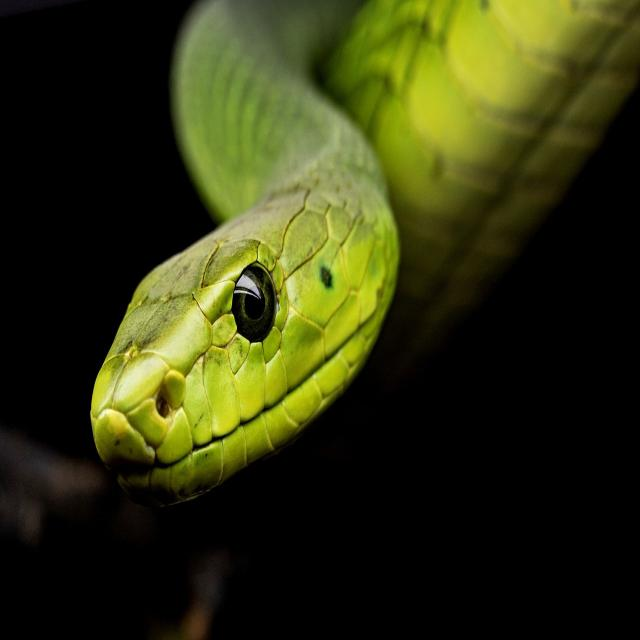Carnivorous: (90, 0, 640, 512)
